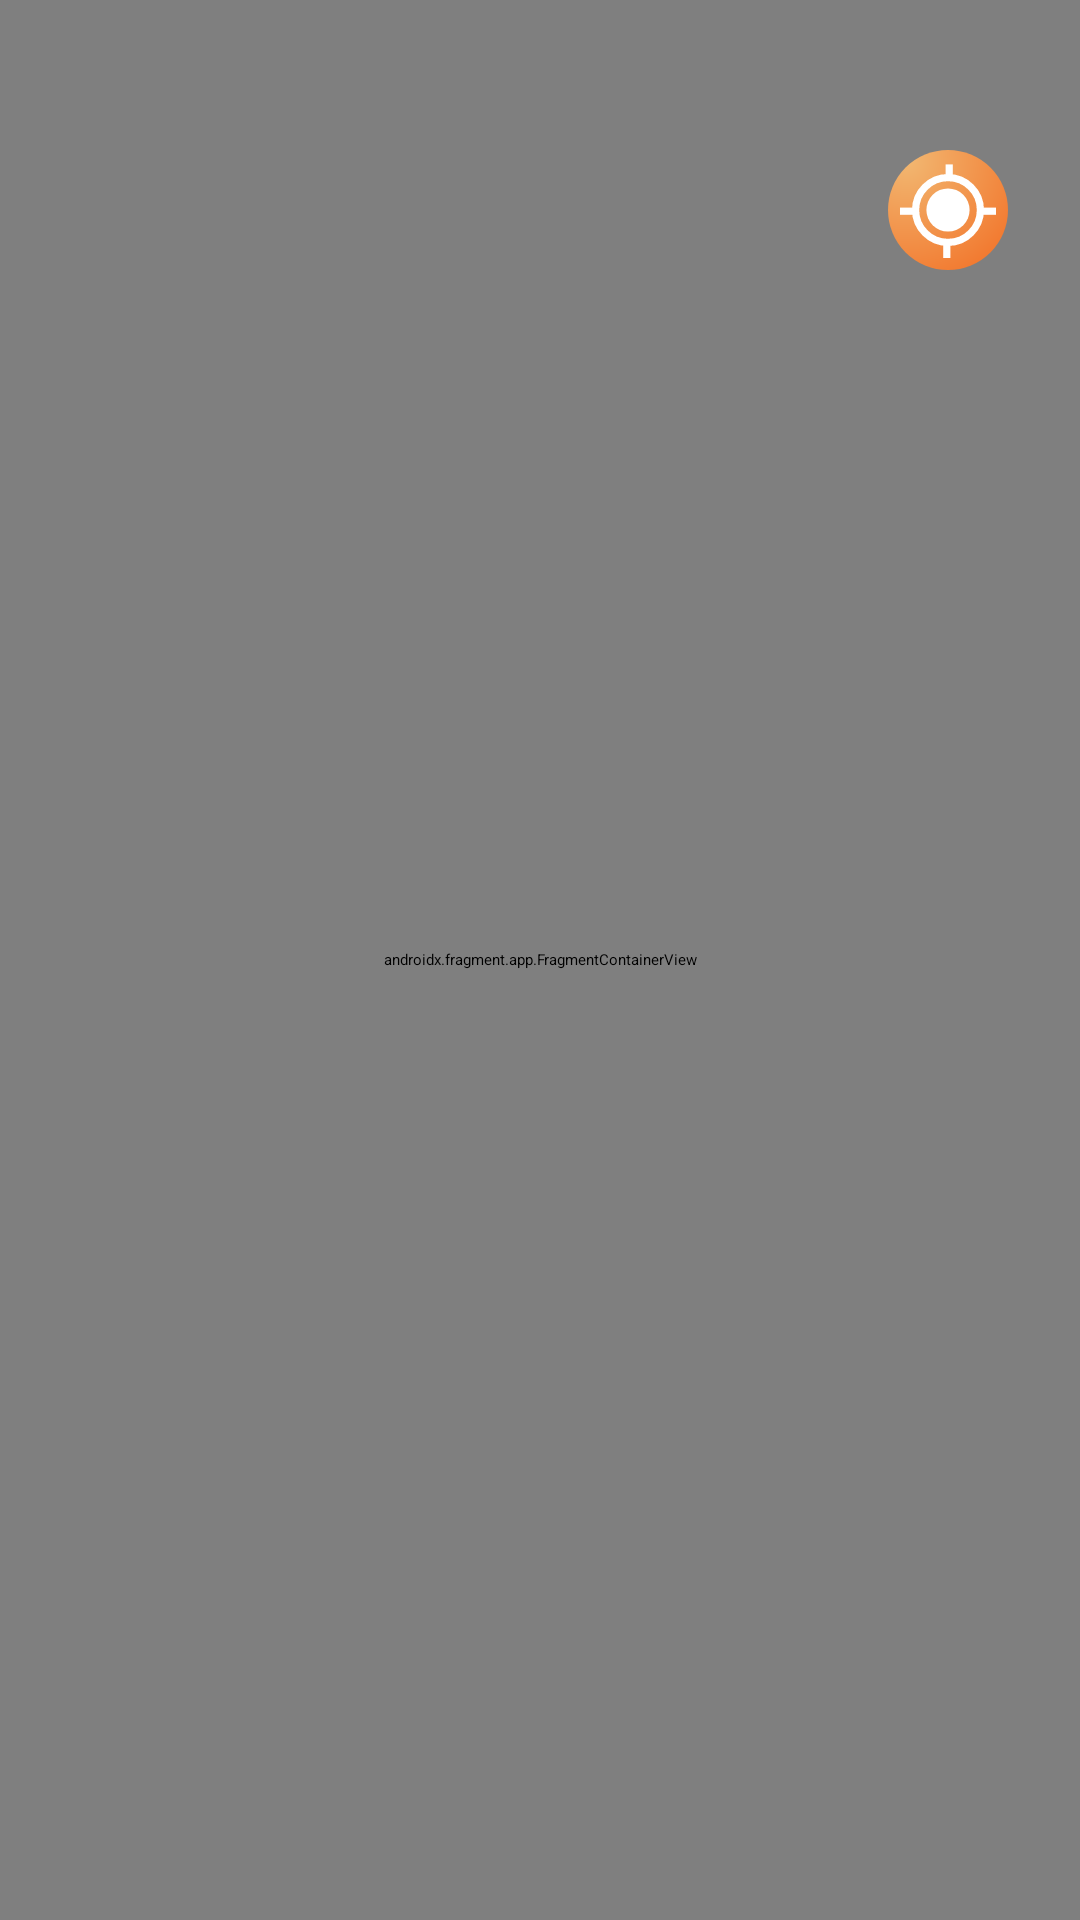

Screen size 1080*1920. Icon name, then its box in pixels as detection(x1, y1, x2, y2):
location: detection(888, 150, 1008, 270)
